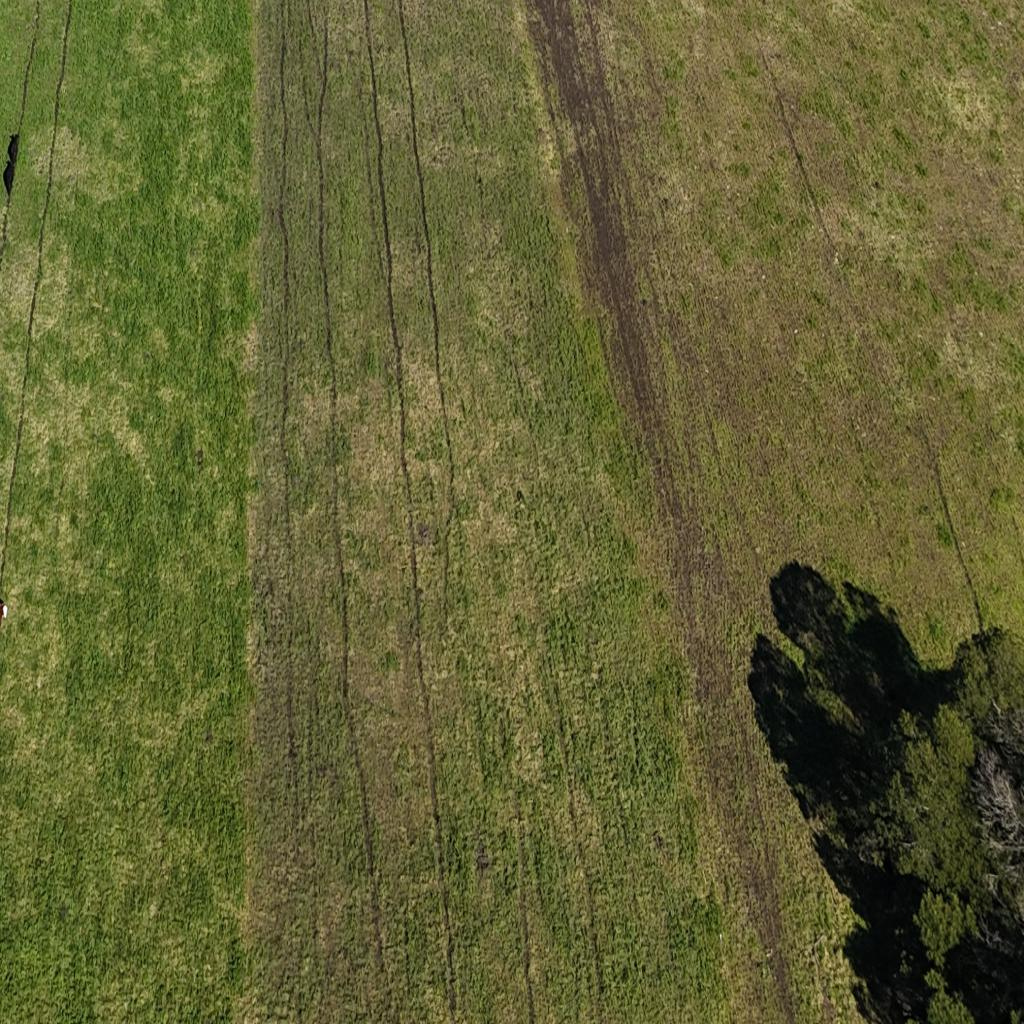cow: (6, 129, 22, 165), (3, 158, 16, 198)
